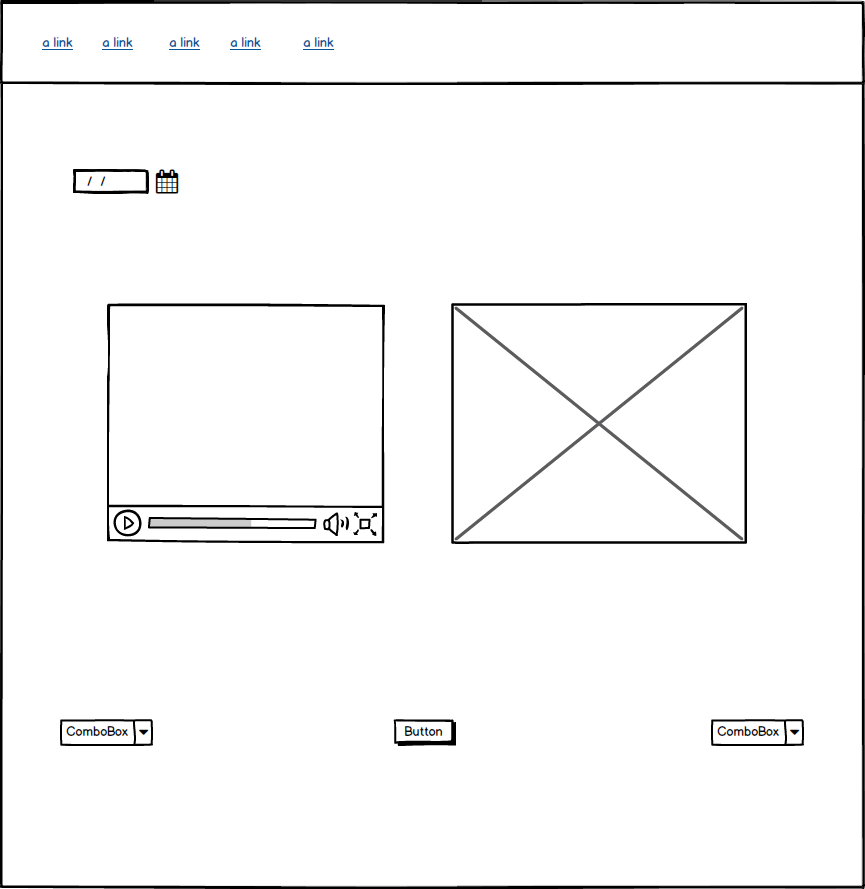button: (390, 711, 463, 750)
date_picker: (68, 163, 187, 198)
image: (444, 297, 753, 551)
navlink: (302, 24, 348, 63), (34, 28, 86, 54), (160, 31, 213, 54), (228, 32, 271, 58), (102, 31, 136, 55)
select_box: (702, 711, 813, 758), (53, 715, 157, 754)
video: (103, 298, 390, 552)
